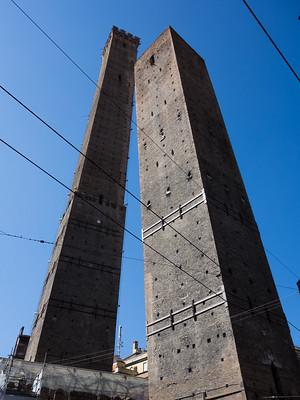building: (131, 23, 300, 400), (24, 23, 142, 372)
